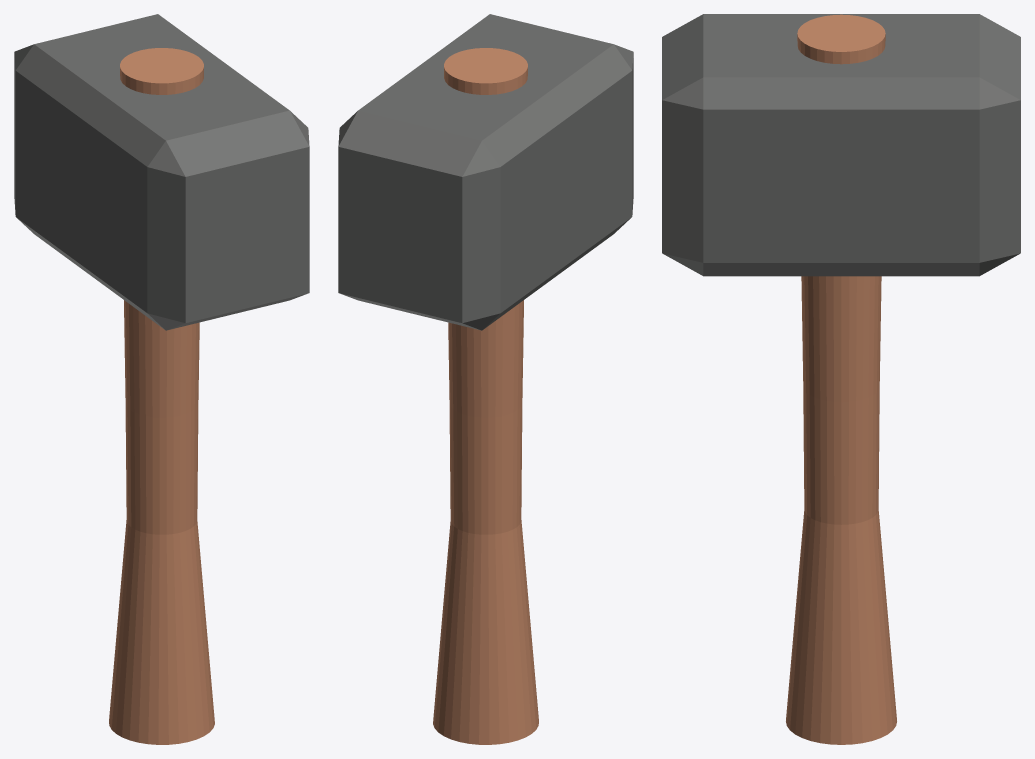
The model's file is hammer.fbx.
3 renders of one model, left to right at view 1: azimuth 30°, elevation 25°; view 2: azimuth 150°, elevation 25°; view 3: azimuth 270°, elevation 25°, orthographic. The views are drawn at different scales.
Visible parts, largest first — view 1: Cylinder; view 2: Cylinder; view 3: Cylinder.
Boxes of the visible parts, x1,y1,x2,y2 form: Cylinder: (14, 14, 309, 744); Cylinder: (338, 14, 633, 744); Cylinder: (662, 14, 1020, 744).
Bounding box in the file's own units: 109 × 423 × 200.
